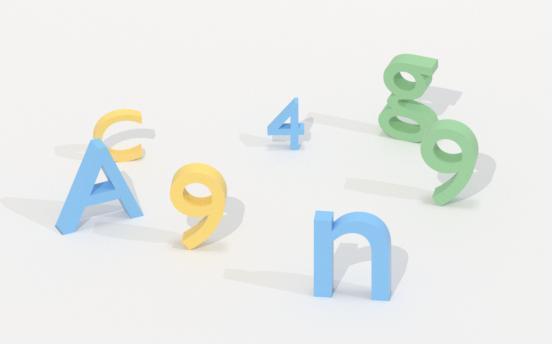chu_khoi: (55, 139, 142, 233), (313, 211, 391, 300), (378, 54, 437, 142), (93, 109, 141, 138)
so_khoi: (170, 163, 226, 248), (421, 120, 477, 204), (267, 97, 303, 149)
